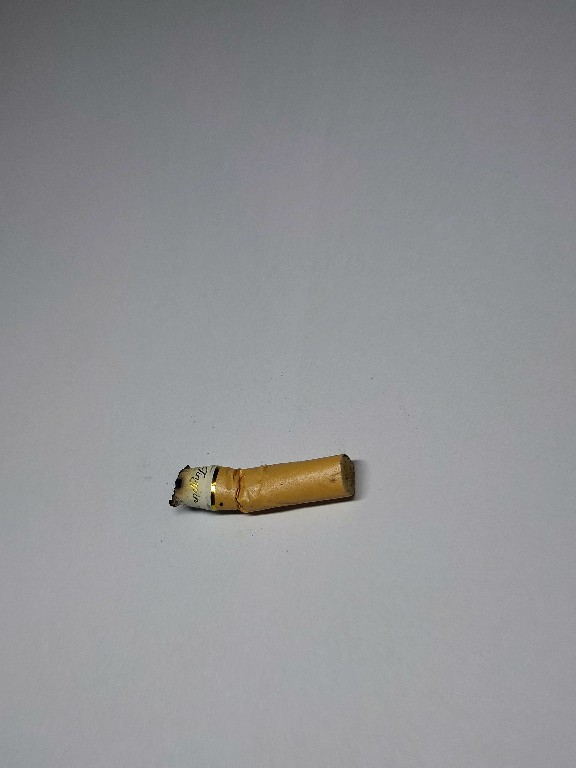cigarette: (165, 452, 359, 518)
